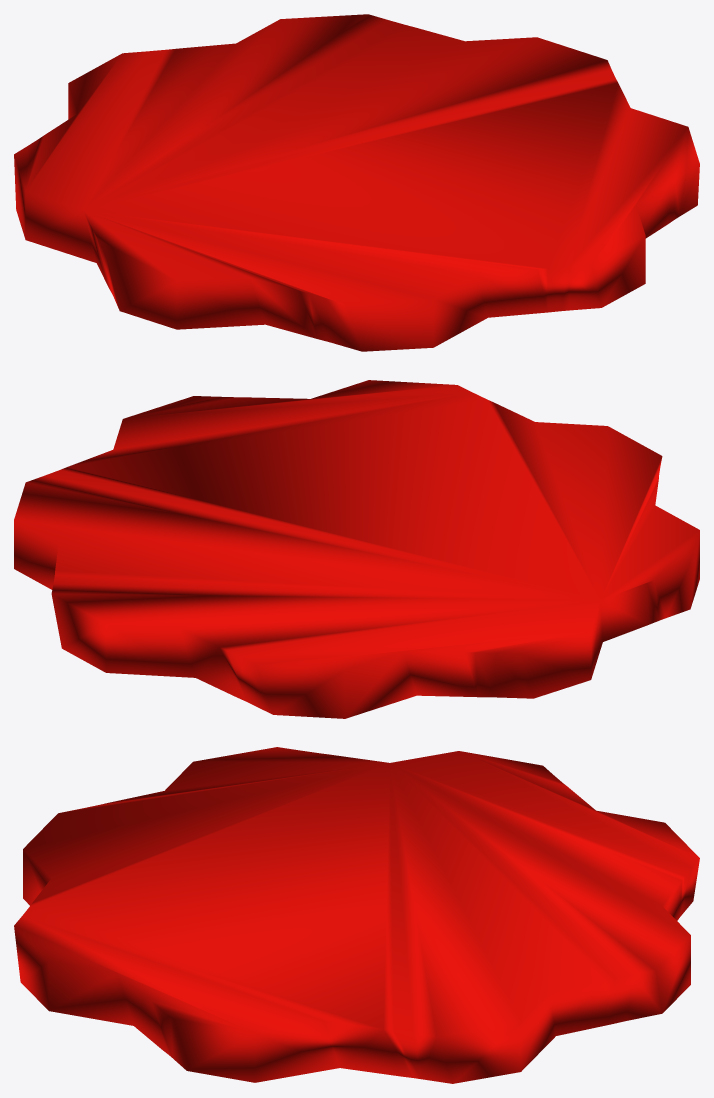
The model's file is Platform_2.fbx.
3 views of the same model, one above another, from view 1: azimuth 30°, elevation 25°; view 2: azimuth 150°, elevation 25°; view 3: azimuth 270°, elevation 25° (orthographic). The views are drawn at different scales.
Parts seen in each view (by area): view 1: UMesh_PM3D_Cylinder3D4_UMesh_PM3D_Cylinder3D4_0; view 2: UMesh_PM3D_Cylinder3D4_UMesh_PM3D_Cylinder3D4_0; view 3: UMesh_PM3D_Cylinder3D4_UMesh_PM3D_Cylinder3D4_0.
Boxes of the visible parts, x1,y1,x2,y2 form: UMesh_PM3D_Cylinder3D4_UMesh_PM3D_Cylinder3D4_0: [14, 14, 699, 351]; UMesh_PM3D_Cylinder3D4_UMesh_PM3D_Cylinder3D4_0: [14, 380, 699, 718]; UMesh_PM3D_Cylinder3D4_UMesh_PM3D_Cylinder3D4_0: [14, 747, 699, 1083].
Size of the model in its own units: 126 by 10.11 by 126.
